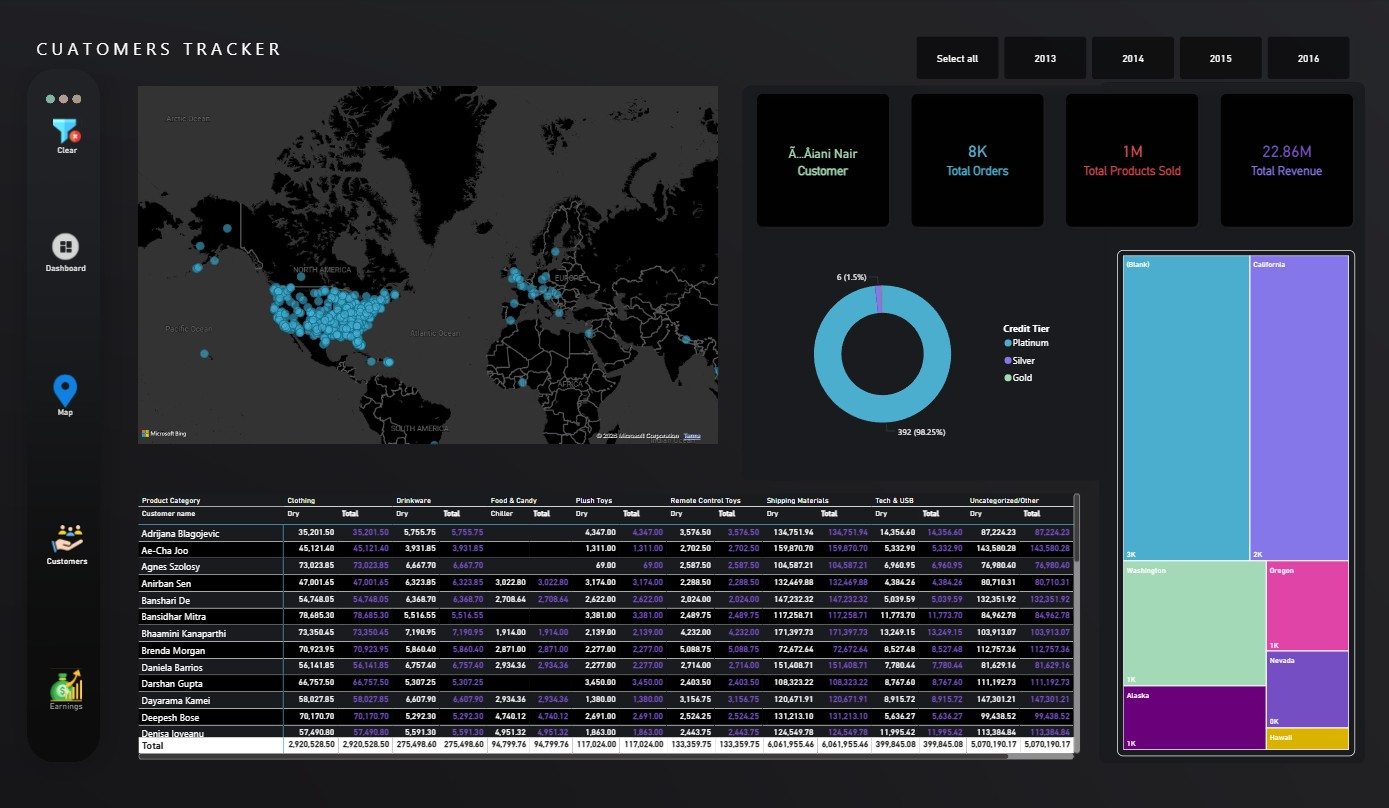

The page's visual inventory and layout, read from the dashboard file:
{"tool":"powerbi","page":{"name":"Customer_page","canvas":[2000,1166],"ordinal":2},"visuals":[{"type":"actionButton","box":[44.3,482.5,104.3,172.9],"z":0,"group":"g1"},{"type":"textbox","box":[50,50,512.5,50],"z":1000},{"type":"actionButton","box":[47.4,696.3,104.3,170],"z":1000,"group":"g1"},{"type":"shape","box":[1581.2,120,382.5,978.8],"z":2000},{"type":"actionButton","box":[46,907.3,104.3,167.1],"z":2000,"group":"g1"},{"type":"image","box":[0,42.2,196.5,1123.8],"z":3000},{"type":"actionButton","box":[44.5,281.6,105.7,160],"z":3000,"group":"g1"},{"type":"group","id":"g1","title":"Group 1","box":[44.3,146,108.2,928.4],"z":4000},{"type":"actionButton","box":[45.3,146,107.1,98.6],"z":4000,"group":"g1"},{"type":"image","box":[1000,120,660,576.7],"z":5000},{"type":"donutChart","fields":{"Category":["DimCustomer.Credit Tier"],"Y":["CountNonNull(DimCustomer.Customer name)"]},"box":[1091.7,366.7,441.7,290],"z":6000},{"type":"treemap","fields":{"Group":["DimCustomer.Customer State"],"Values":["_Measures.Total Orders"]},"box":[1606.7,361.7,341.7,726.7],"z":8000},{"type":"cardVisual","fields":{"Data":["Min(DimCustomer.Customer name)","_Measures.Total Orders","_Measures.Total Products Sold","_Measures.Total Income"]},"box":[1072.5,120,891.2,225],"z":9000},{"type":"advancedSlicerVisual","fields":{"Values":["DimDate.Year"]},"box":[1313.3,50,635,71.7],"z":10000},{"type":"pivotTable","fields":{"Columns":["DimStockItem.Product Category","DimStockItem.Product Type"],"Rows":["DimCustomer.Customer name"],"Values":["_Measures.Total Income"]},"box":[196.7,706.7,1361.7,391.7],"z":10001},{"type":"map","fields":{"Category":["DimCustomer.Customer Locality"]},"box":[196.7,121.7,841.7,523.3],"z":10002}]}

Visuals, with their boxes on the page's 2000x1166 design canvas (x1, y1, x2, y2). These are canvas units, not pixel positions in the 1389x808 screenshot, which may show the page scaled, cropped or inside an application window:
actionButton: 44 482 149 655
textbox: 50 50 562 100
actionButton: 47 696 152 866
shape: 1581 120 1964 1099
actionButton: 46 907 150 1074
image: 0 42 196 1166
actionButton: 44 282 150 442
"Group 1" group: 44 146 152 1074
actionButton: 45 146 152 245
image: 1000 120 1660 697
donutChart - DimCustomer.Credit Tier x CountNonNull(DimCustomer.Customer name): 1092 367 1533 657
treemap - DimCustomer.Customer State x _Measures.Total Orders: 1607 362 1948 1088
cardVisual - Min(DimCustomer.Customer name) x _Measures.Total Orders: 1072 120 1964 345
advancedSlicerVisual - DimDate.Year: 1313 50 1948 122
pivotTable - DimStockItem.Product Category x DimStockItem.Product Type: 197 707 1558 1098
map - DimCustomer.Customer Locality: 197 122 1038 645
